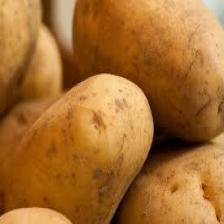Diseased-fungal potato: (1, 69, 154, 224)
